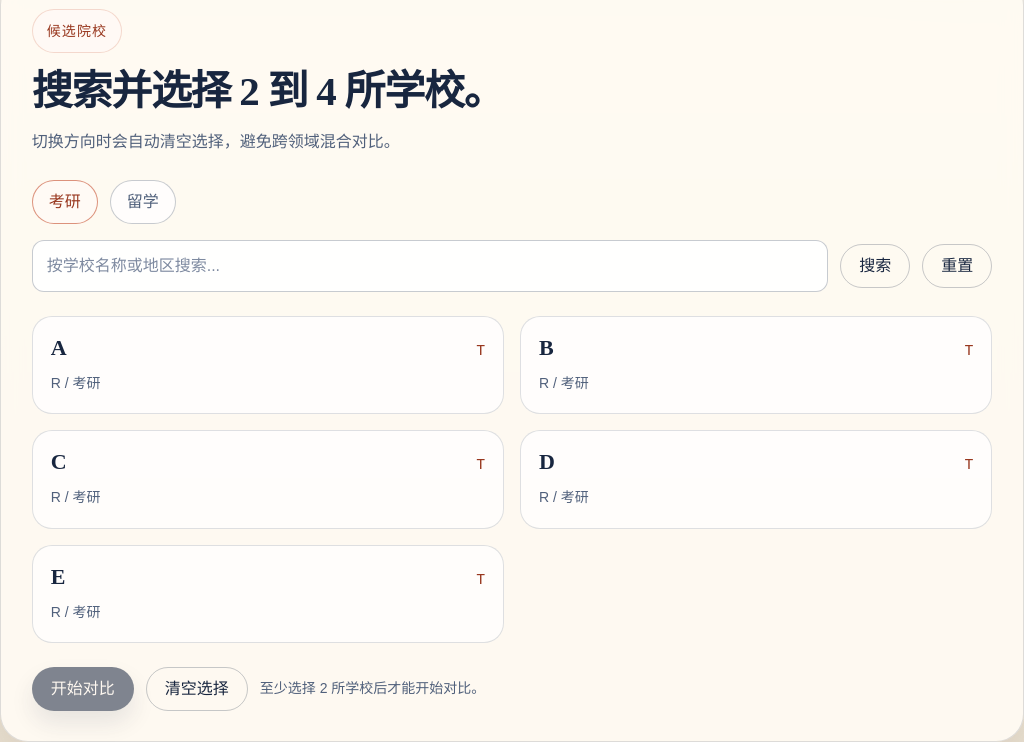
Test: enforces 2-4 school selection and renders compare result highlight
(page scrolled)
Expected: the button with test id "compare-submit" is disabled, left=32, top=667, right=134, bottom=711
Click the button with class "candidate-card" showing "A T R / 考研".
click(76, 383)  # box left=32, top=316, right=504, bottom=414
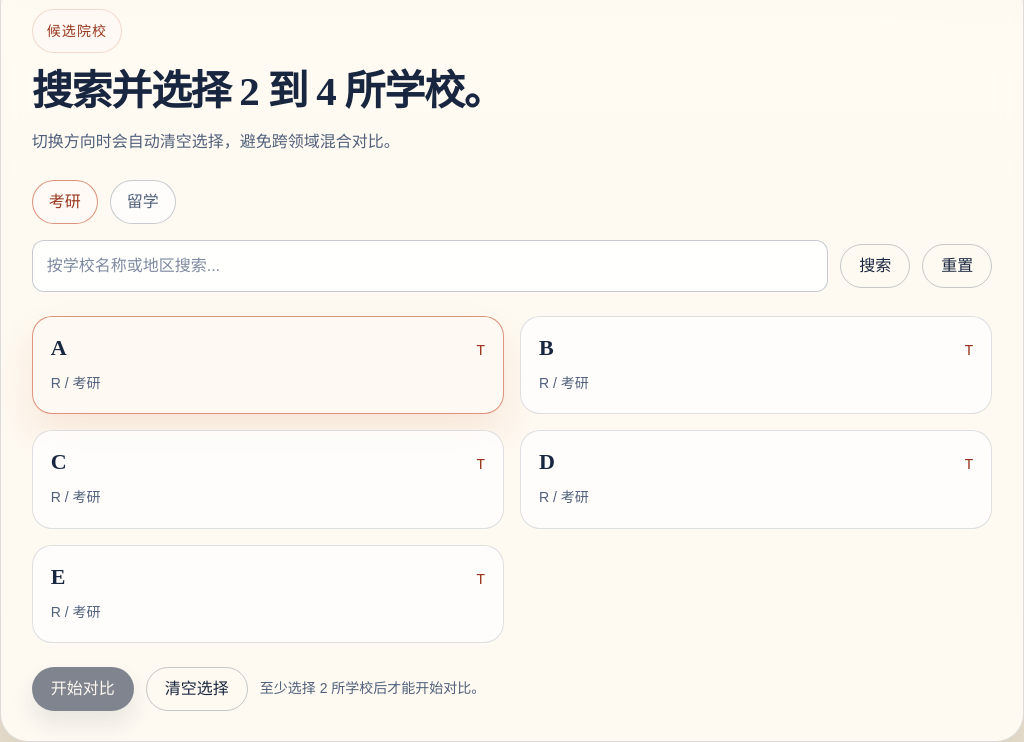
Expected: the button with test id "compare-submit" is disabled, left=32, top=667, right=134, bottom=711
Click the button with class "candidate-card" showing "B T R / 考研".
click(564, 383)  # box left=520, top=316, right=992, bottom=414
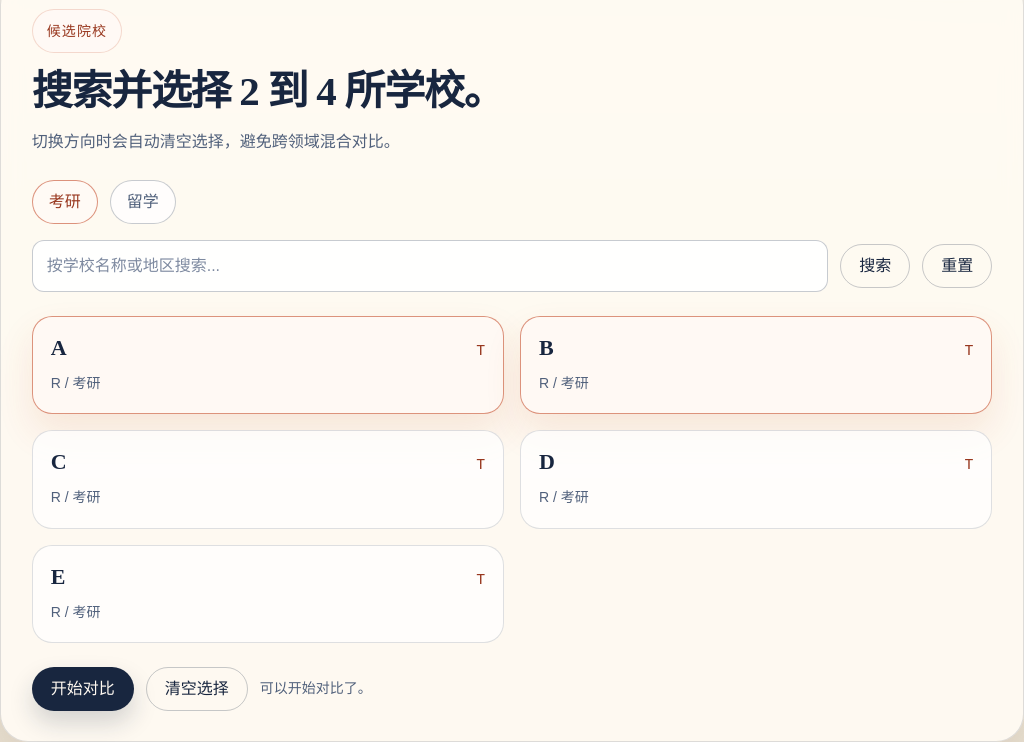
Result: the button with test id "compare-submit" is enabled at left=32, top=667, right=134, bottom=711
Click the button with class "candidate-card" showing "C T R / 考研".
click(76, 497)  # box left=32, top=430, right=504, bottom=528
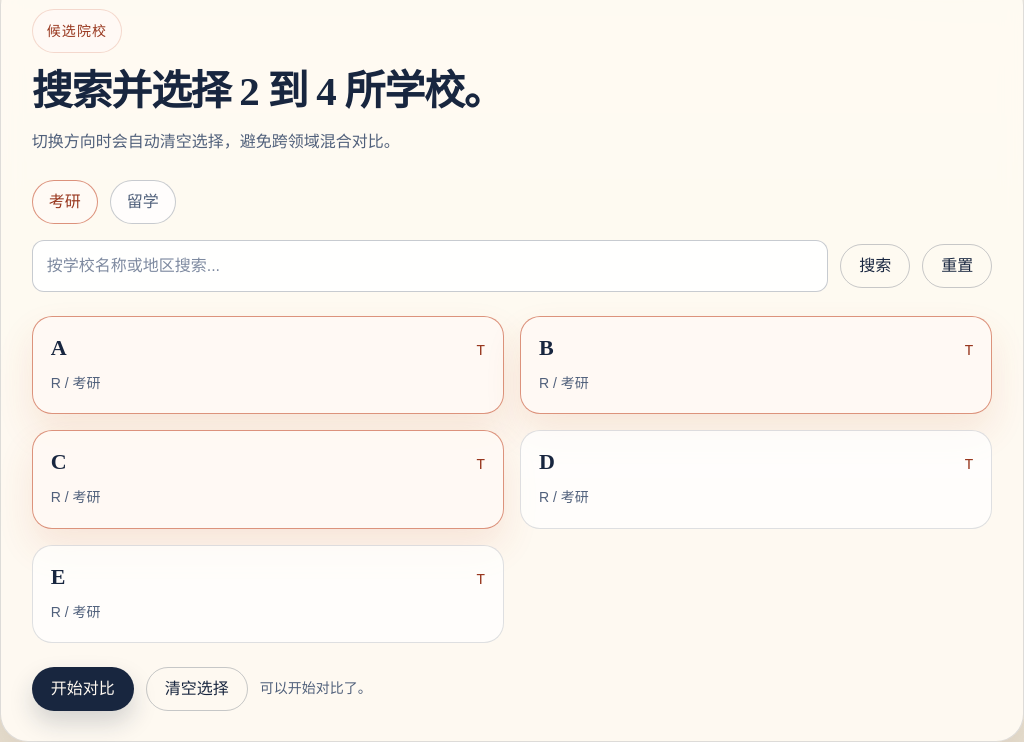
Click the button with class "candidate-card" showing "D T R / 考研".
click(564, 497)  # box left=520, top=430, right=992, bottom=528
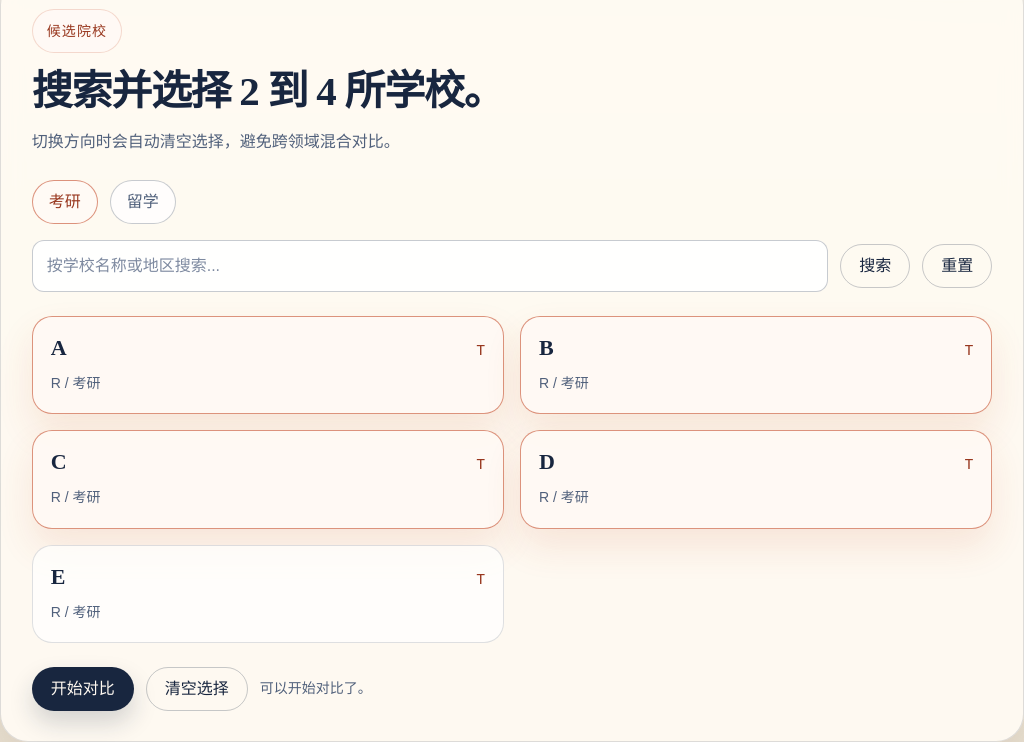
Expected: the text "最多选择 4 所学校。" is not shown
Click the button with class "candidate-card" showing "E T R / 考研".
click(76, 612)  # box left=32, top=544, right=504, bottom=643
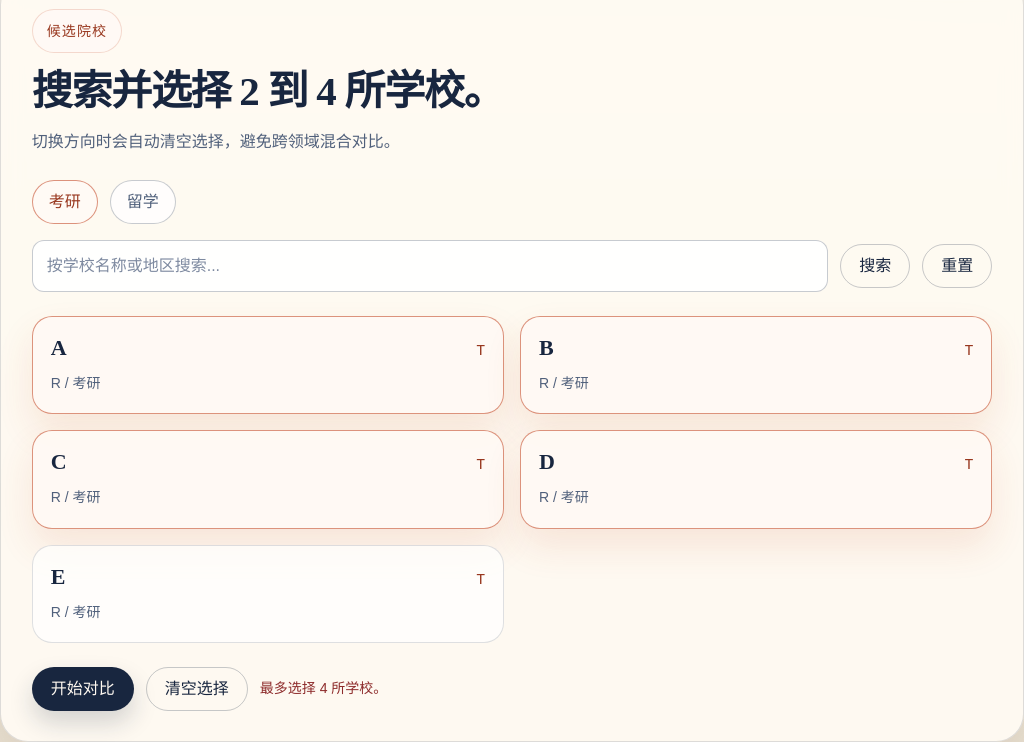
Result: the text "最多选择 4 所学校。" is shown at left=260, top=677, right=387, bottom=700
Click the button with test id "compare-submit".
click(83, 689)  # box left=32, top=667, right=134, bottom=711
(page scrolled)
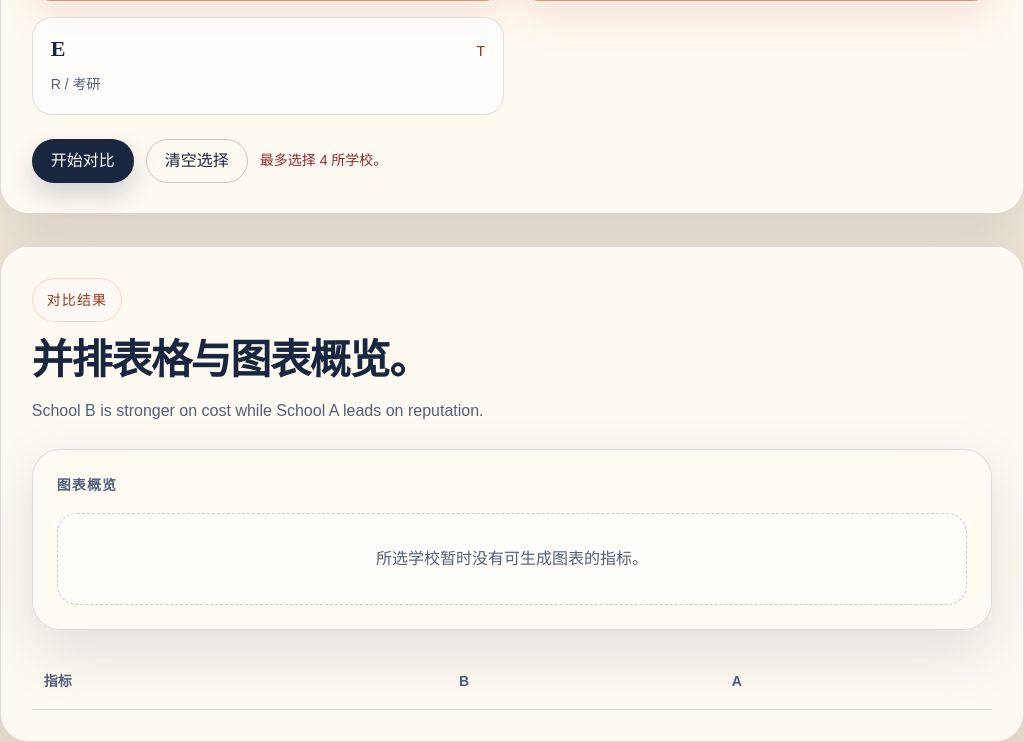
Result: the text with test id "highlight" shows "School B is stronger on cost" at left=32, top=402, right=484, bottom=419
